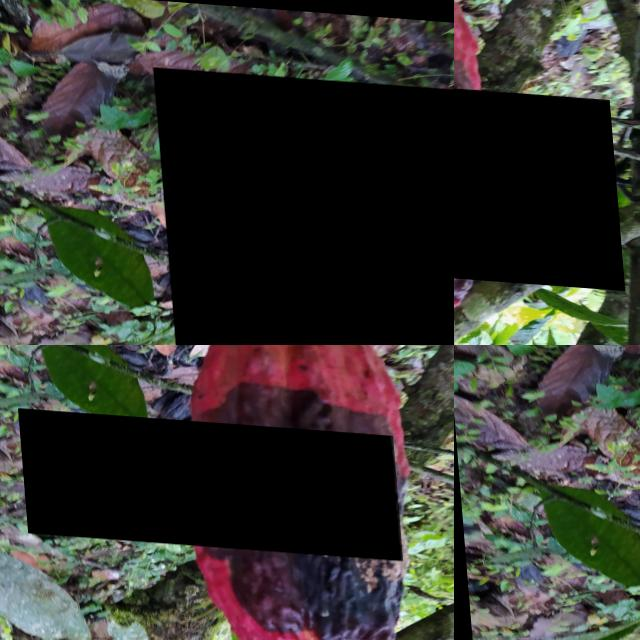Fitoftora: (152, 64, 454, 345)
Monilia: (13, 408, 395, 554), (454, 62, 616, 282)
Sana: (149, 532, 404, 597), (224, 397, 424, 465), (374, 450, 454, 532)
